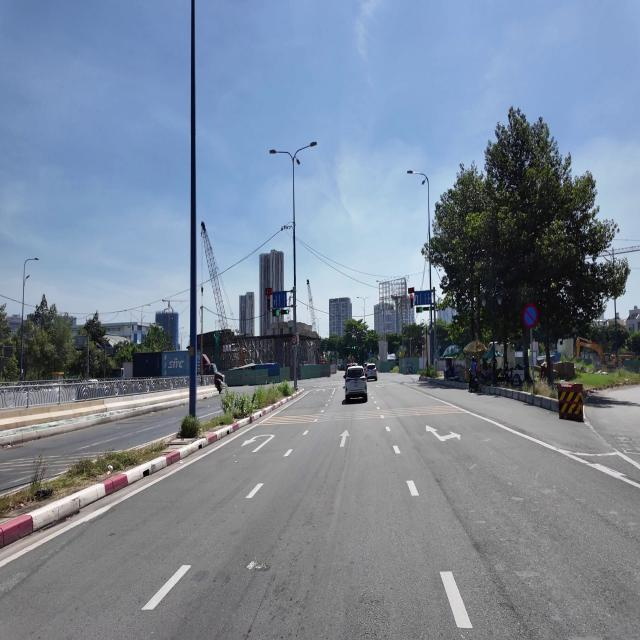car: (345, 366, 367, 401), (365, 363, 377, 381)
